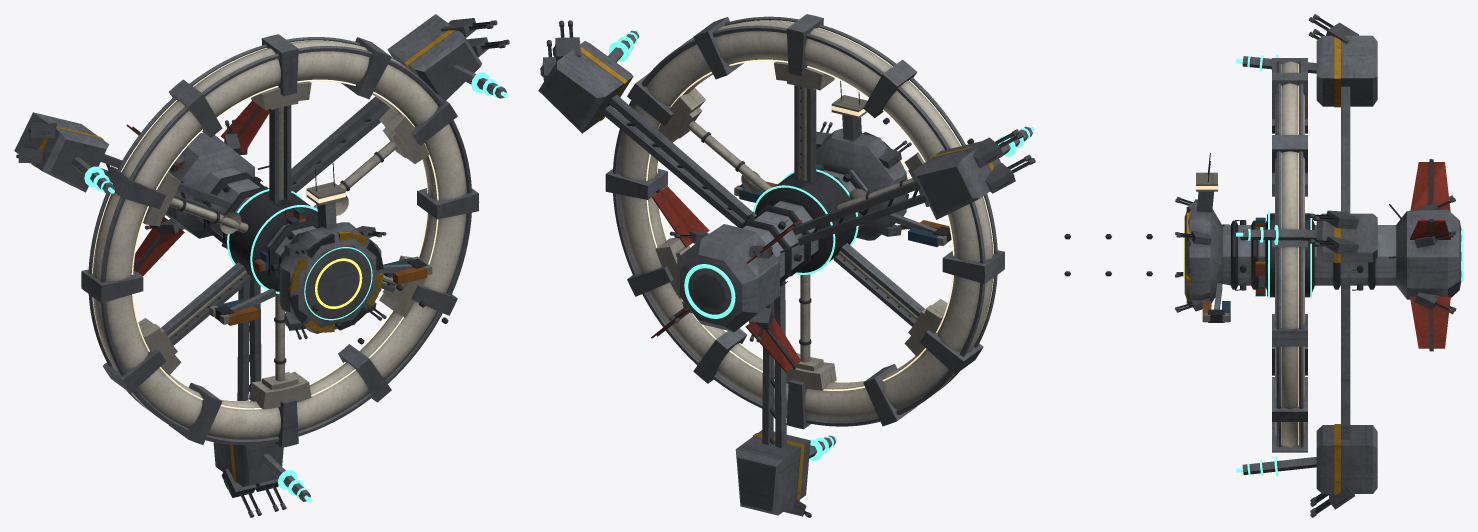
File: static_station.glb
The picture shows the model from 3 angles, left to right: view 1: azimuth 30°, elevation 25°; view 2: azimuth 150°, elevation 25°; view 3: azimuth 270°, elevation 25°; orthographic projection. The views are drawn at different scales.
Parts seen in each view (by area): view 1: SPIN_RING, HULL; view 2: SPIN_RING, HULL; view 3: HULL, SPIN_RING.
Part boxes in pixels (left/top/right/bottom): SPIN_RING: left=81, top=34, right=479, bottom=447; HULL: left=14, top=14, right=509, bottom=517; SPIN_RING: left=605, top=14, right=1004, bottom=429; HULL: left=538, top=20, right=1035, bottom=517; HULL: left=1064, top=14, right=1463, bottom=517; SPIN_RING: left=1272, top=58, right=1307, bottom=452.
Size of the model in its own units: 87.02 by 81.87 by 68.3.
Materials: 1 (1 with a texture image).
